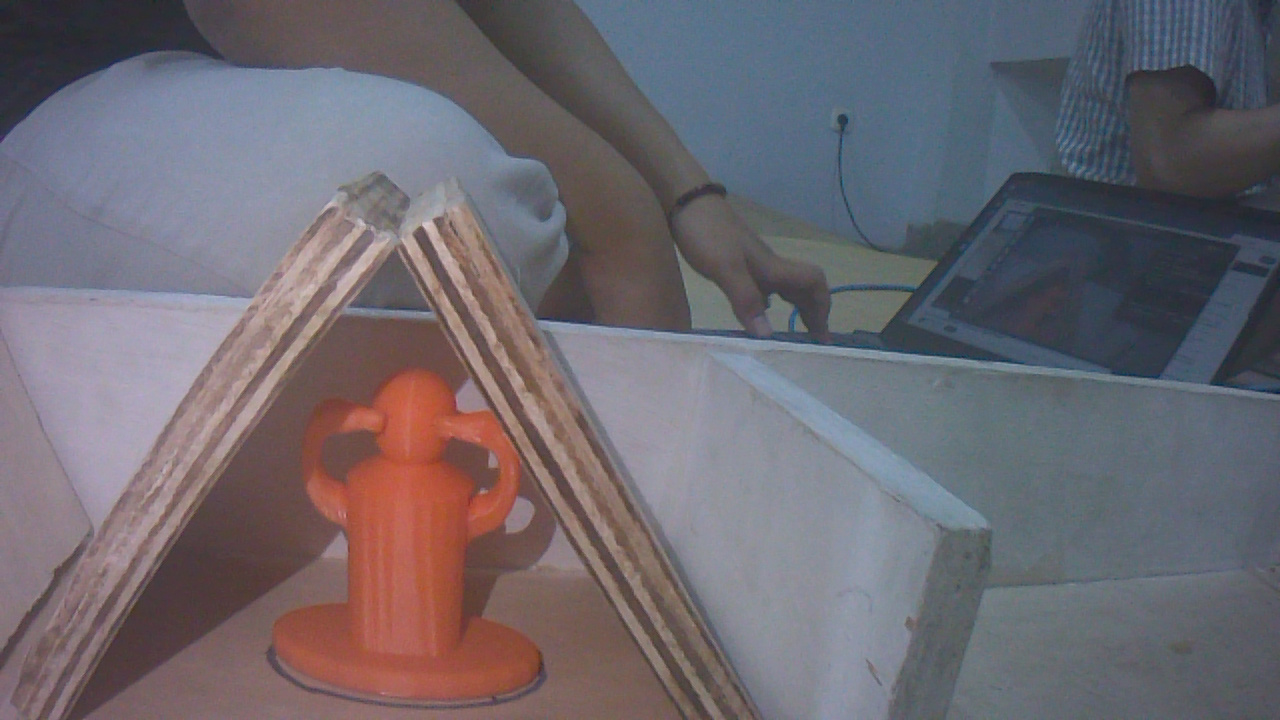real: (270, 359, 534, 709)
